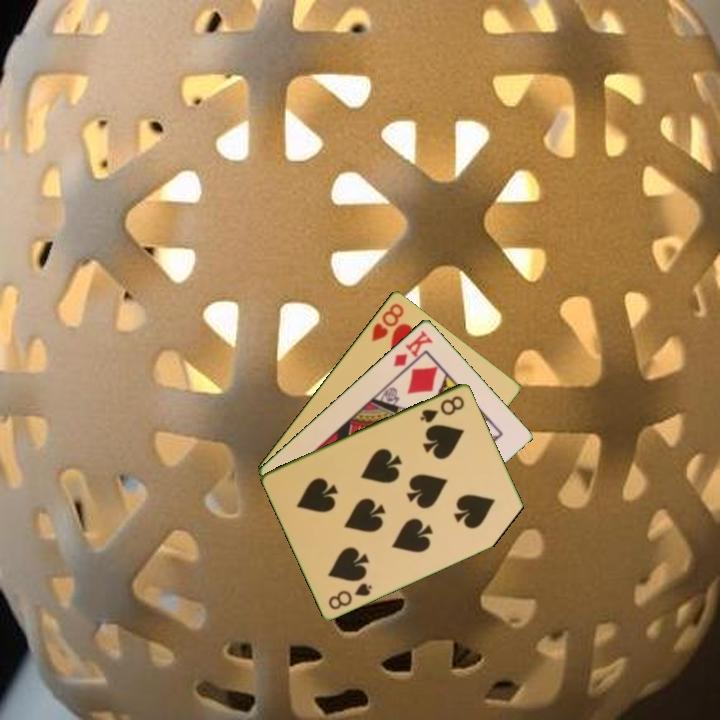8h: (368, 299, 407, 344)
8s: (417, 392, 467, 426), (325, 579, 375, 612)
Kd: (389, 326, 436, 369)
